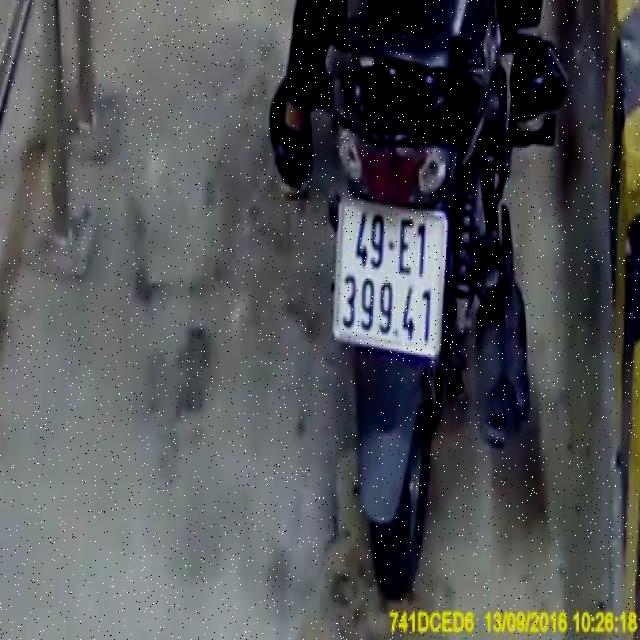1: (420, 284, 436, 352), (414, 214, 428, 281)
3: (341, 270, 359, 338)
4: (402, 282, 417, 343), (356, 208, 368, 270)
9: (368, 205, 386, 267), (360, 273, 378, 333), (380, 274, 395, 341)
E: (398, 210, 415, 276)
